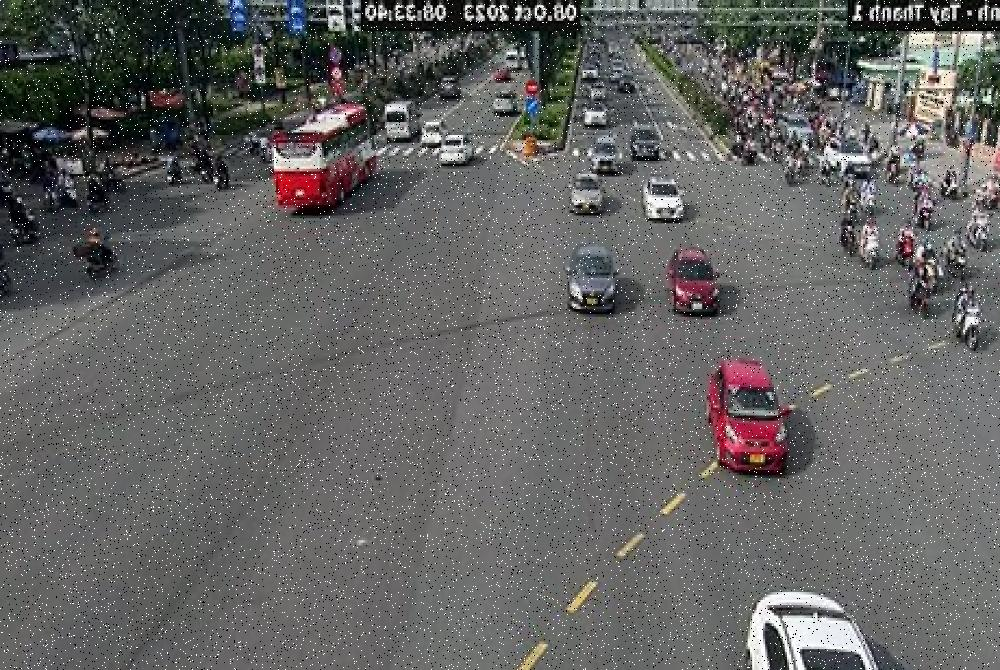bus: (266, 96, 378, 256)
car: (698, 568, 924, 670), (699, 345, 808, 495), (660, 228, 733, 340), (554, 233, 615, 347), (552, 93, 614, 159), (639, 164, 688, 244), (434, 129, 481, 194), (384, 87, 421, 158), (560, 164, 605, 222), (585, 126, 621, 186), (484, 87, 520, 140), (603, 67, 637, 118), (419, 108, 450, 160), (635, 119, 663, 176)
